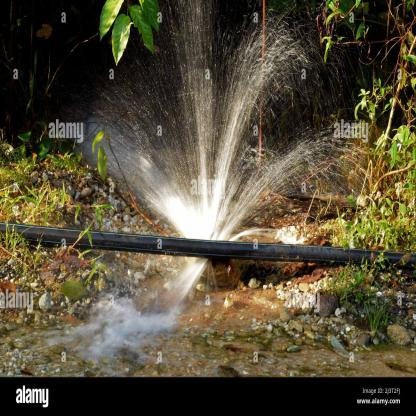PVC: (0, 222, 416, 276)
